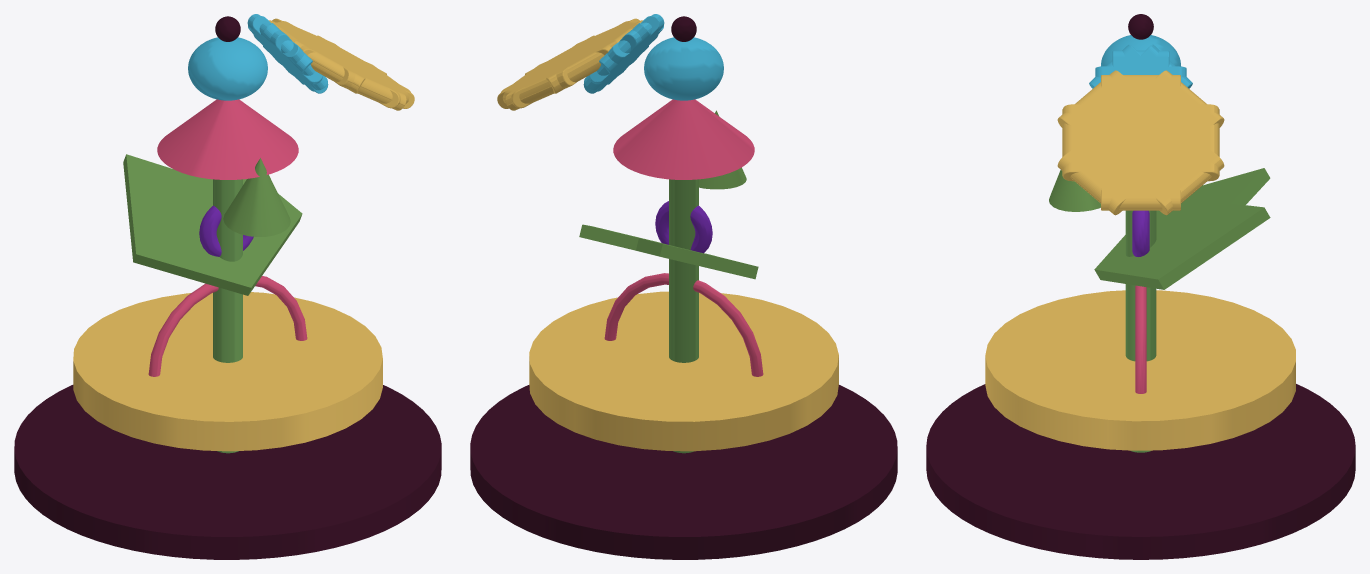
The model's file is 0091_植物图鉴_白花欧丁香.glb.
3 renders of one model, left to right at view 1: azimuth 30°, elevation 25°; view 2: azimuth 150°, elevation 25°; view 3: azimuth 270°, elevation 25°, orthographic.
Parts seen in each view (by area): view 1: card_0091; view 2: card_0091; view 3: card_0091.
Part boxes in pixels (left/top/right/bottom): card_0091: left=14, top=14, right=441, bottom=559; card_0091: left=470, top=14, right=897, bottom=559; card_0091: left=926, top=14, right=1355, bottom=559.
Bounding box in the file's own units: 0.857 × 1 × 0.857.
